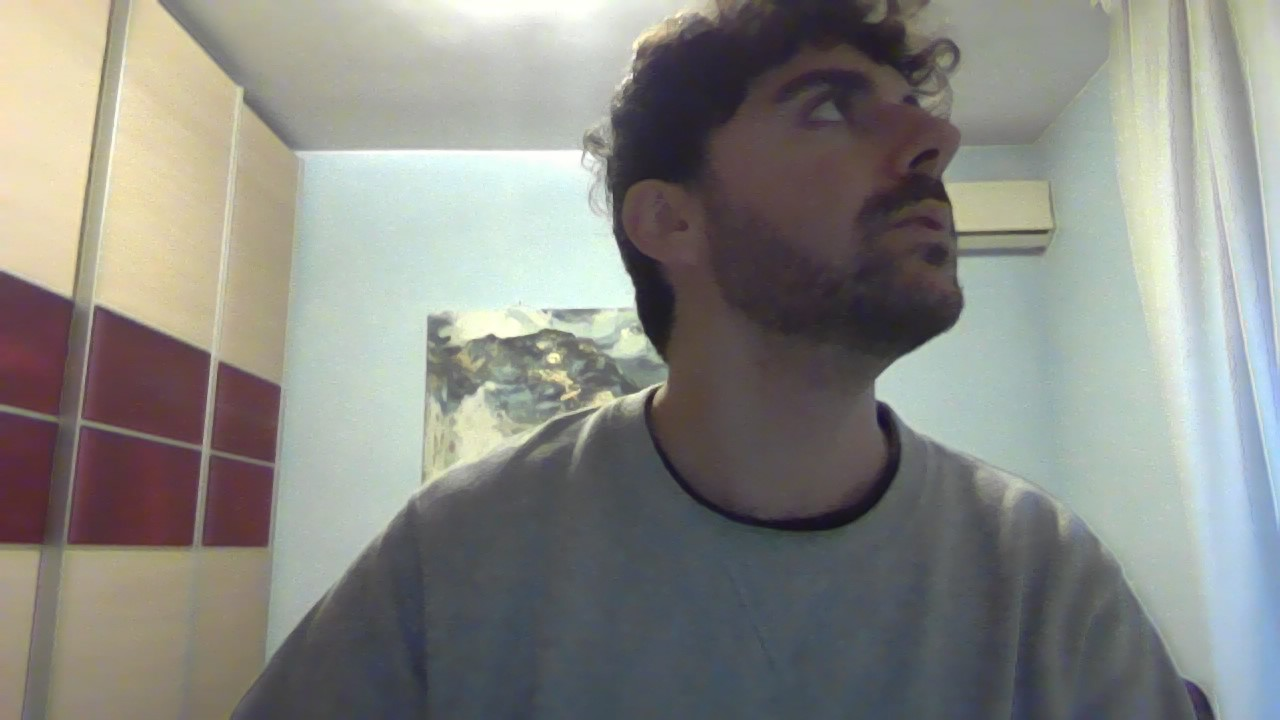NoGlasses: (721, 60, 968, 139)
